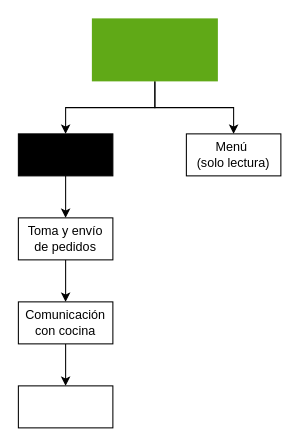
Some shapes in this 299 by 446 pixel diagram are drawn without their labels. Each missing label, with the centre of its shape:
"Generación de cuenta y cierre" belongs at (65,406).
"POS Restaurante" belongs at (154,49).
